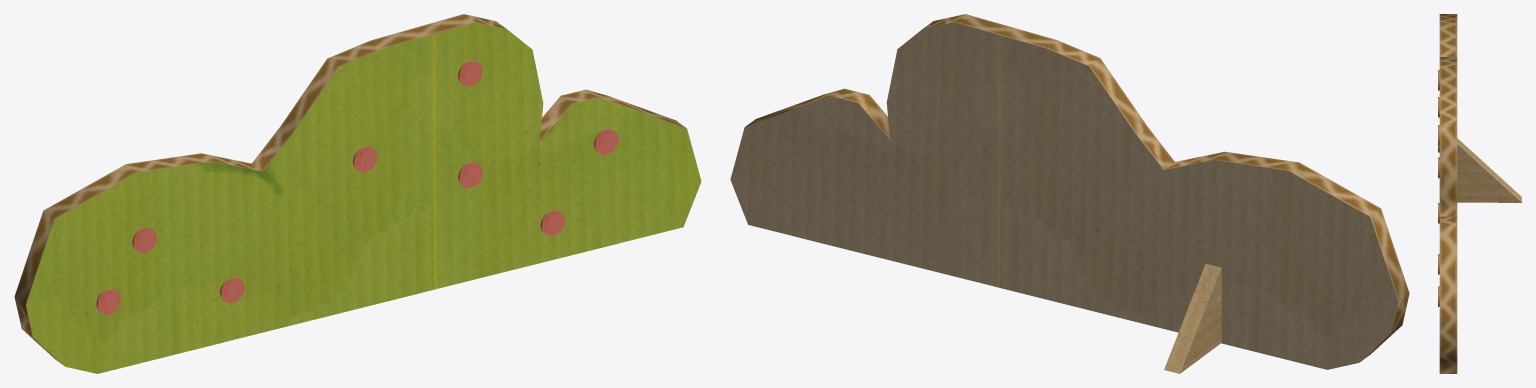
File: 01bush.FBX
3 views of the same model, side by side, from view 1: azimuth 30°, elevation 25°; view 2: azimuth 150°, elevation 25°; view 3: azimuth 270°, elevation 25° (orthographic). The views are drawn at different scales.
Parts seen in each view (by area): view 1: bush; view 2: bush; view 3: bush.
Part boxes in pixels (left/top/right/bottom): bush: left=14, top=14, right=701, bottom=373; bush: left=730, top=14, right=1409, bottom=373; bush: left=1438, top=14, right=1521, bottom=373.
Bounding box in the file's own units: 13.79 × 5.06 × 1.93.
1 material, 1 textured.
